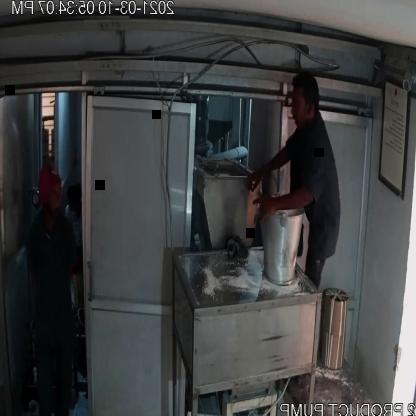no_glove: (238, 136, 295, 206), (255, 173, 315, 225)
